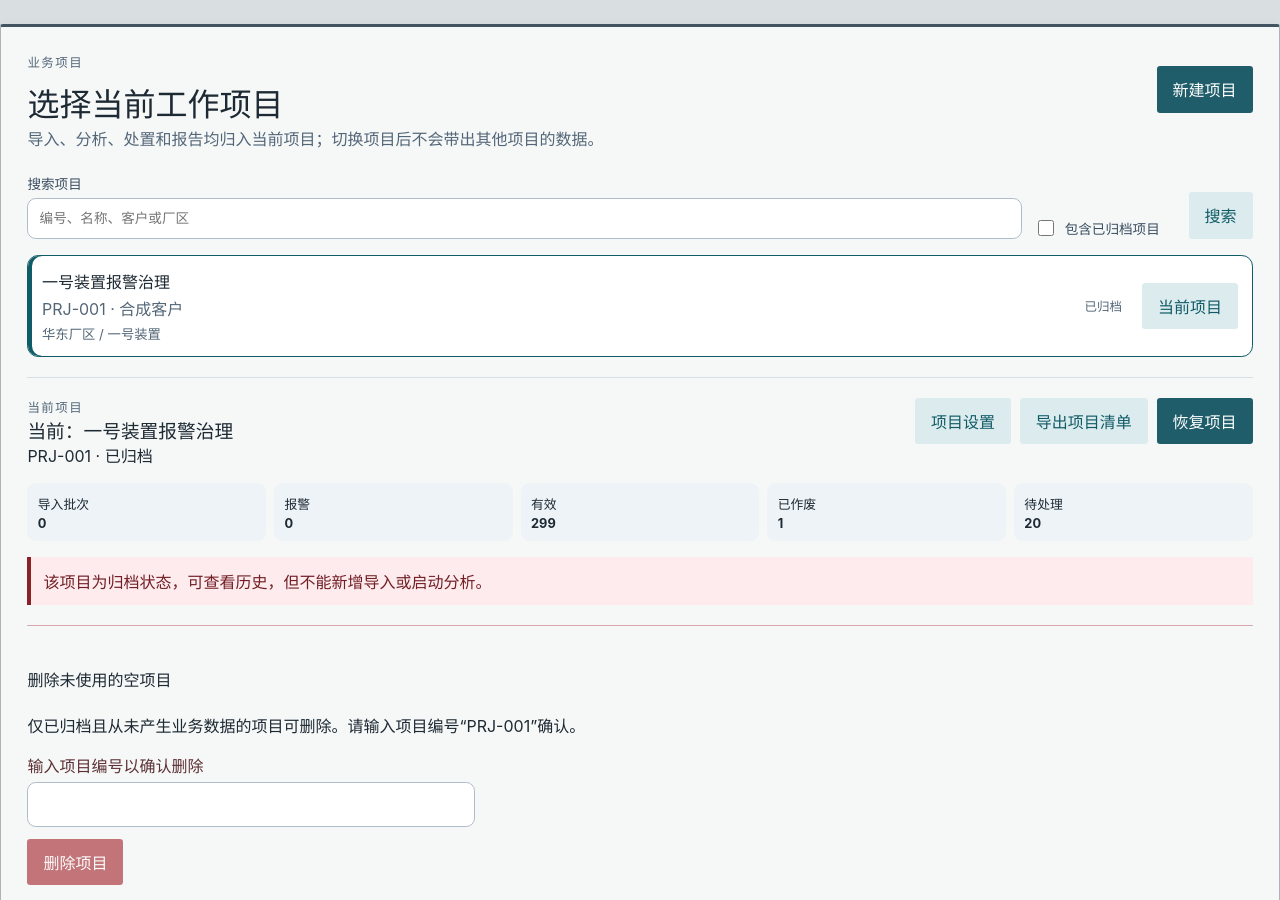
Test case: M10 全中文项目化入口 › 仅允许精确确认后删除已归档空项目
Expected: the button "删除项目" is disabled, [27,839,123,885]
Type "PRJ-001" into the field labelled "输入项目编号以确认删除" at (251, 804), box [27,782,475,827]
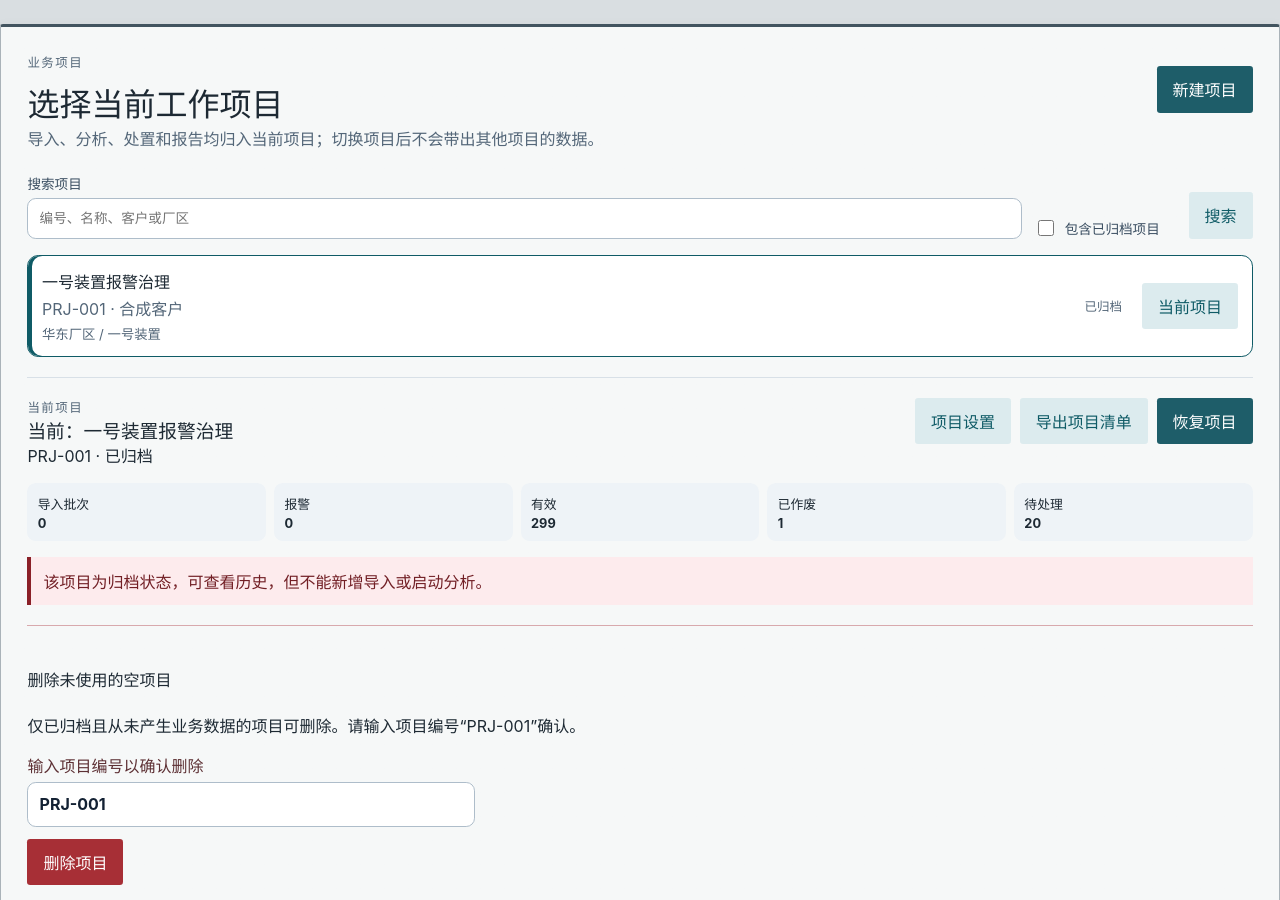
Result: the button "删除项目" is enabled
Click the button "删除项目" at (75, 862), box [27,839,123,885]
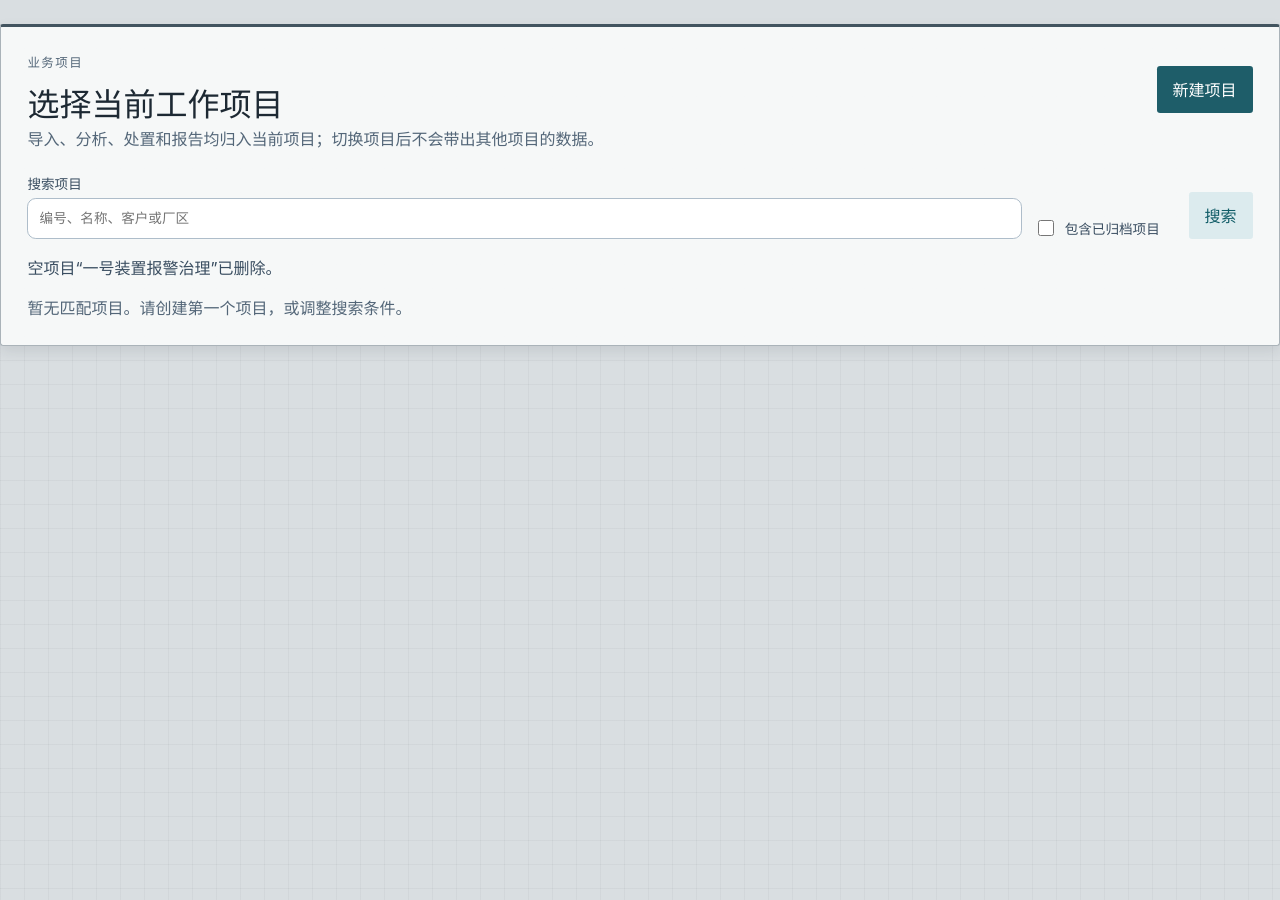
Result: the text "空项目“一号装置报警治理”已删除。" is shown at [27,258,282,278]
